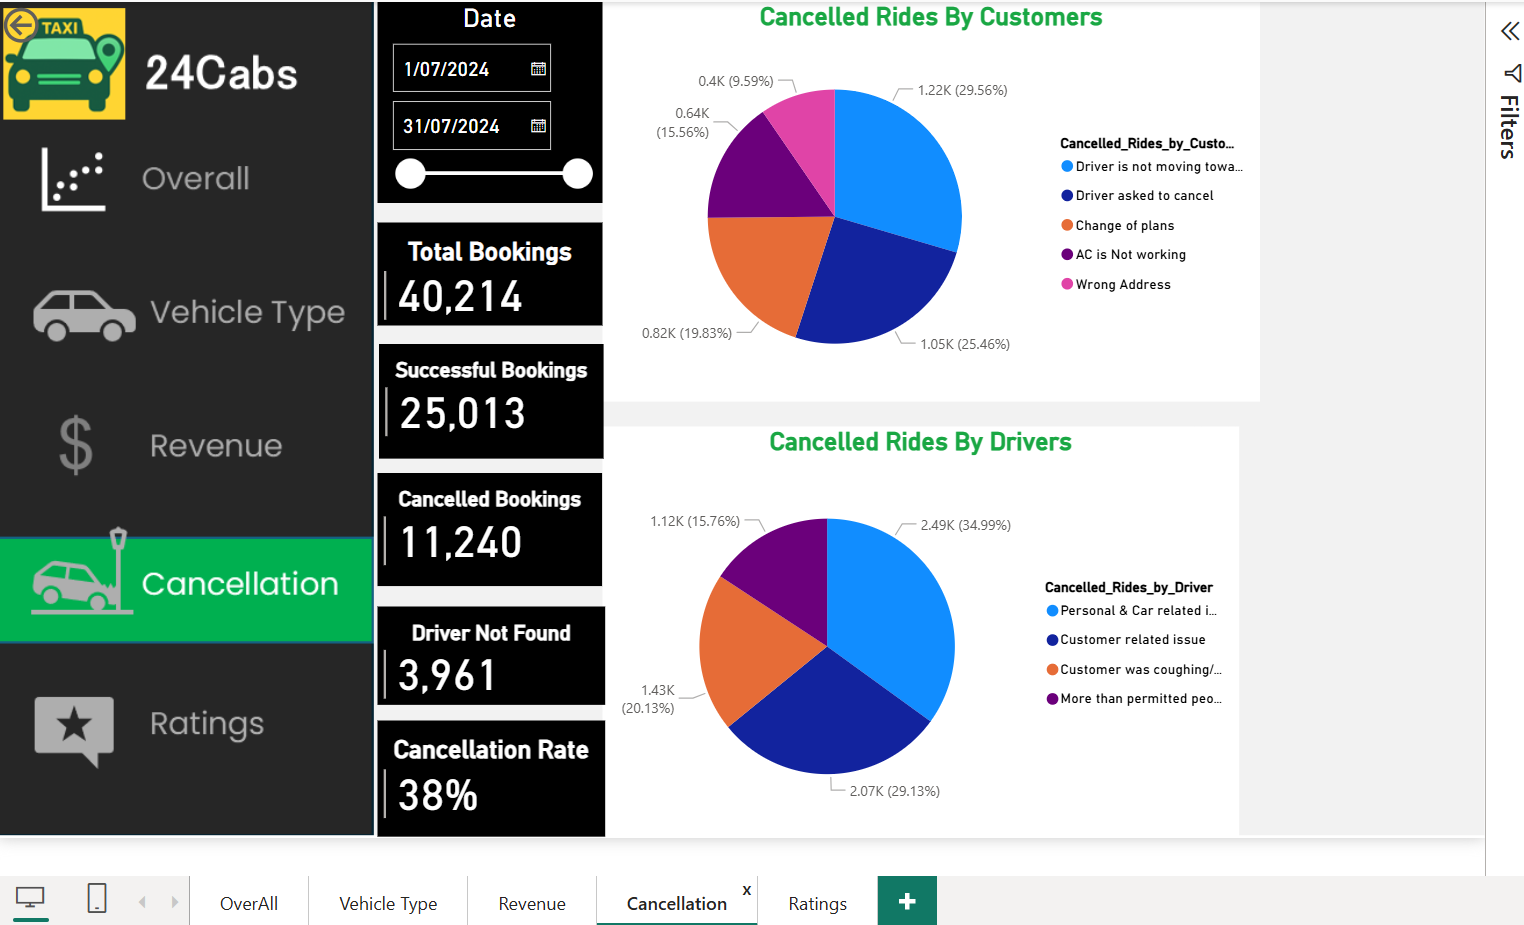

This screenshot's page, from the dashboard's own definition file:
{"tool":"powerbi","page":{"name":"Cancellation","canvas":[1280,720],"ordinal":3},"visuals":[{"type":"pieChart","title":"Cancelled Rides By Customers","fields":{"Category":["July.Canceled_Rides_by_Customer"],"Y":["CountNonNull(July.Booking_Status)"]},"box":[520.8,0,566.2,344.2],"z":0},{"type":"pieChart","title":"Cancelled Rides By Drivers","fields":{"Category":["July.Canceled_Rides_by_Driver"],"Y":["CountNonNull(July.Booking_Status)"]},"box":[520.8,364.9,548.1,353.2],"z":1000},{"type":"slicer","title":"Date","fields":{"Values":["July.Date"]},"box":[327.3,0,193.5,172.7],"z":2000},{"type":"multiRowCard","title":"Total Bookings","fields":{"Values":["July.Booking_ID"]},"box":[327.3,189.6,193.5,88.3],"z":3000},{"type":"multiRowCard","title":"Successful Bookings","fields":{"Values":["July.Booking_Status"]},"box":[328.6,294.8,193.5,98.7],"z":4000},{"type":"multiRowCard","title":"Cancelled Bookings","fields":{"Values":["July.Booking_Status"]},"box":[327.3,405.2,193.5,97.4],"z":5000},{"type":"multiRowCard","title":"Driver Not Found","fields":{"Values":["July.Booking_Status"]},"box":[327.3,520.8,196.1,84.4],"z":6000},{"type":"multiRowCard","title":"Cancellation Rate","fields":{"Values":["July.Cancellation_Rate"]},"box":[327.3,618.2,196.1,100],"z":7000},{"type":"actionButton","box":[0,0,100,40],"z":7001}]}

Visuals, with their boxes in screenshot pixels (x1, y1, x2, y2):
"Cancelled Rides By Customers" pieChart: 600,0,1264,396
"Cancelled Rides By Drivers" pieChart: 600,421,1243,835
"Date" slicer: 372,0,600,195
"Total Bookings" multiRowCard: 372,215,600,318
"Successful Bookings" multiRowCard: 374,338,601,454
"Cancelled Bookings" multiRowCard: 372,468,600,582
"Driver Not Found" multiRowCard: 372,604,603,703
"Cancellation Rate" multiRowCard: 372,718,603,835
actionButton: 0,0,106,39
